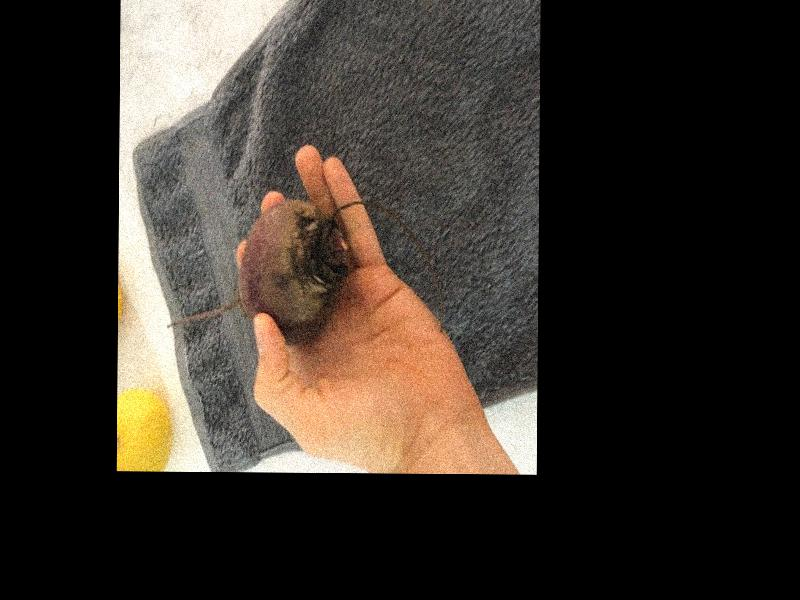Beet: (167, 200, 354, 345)
